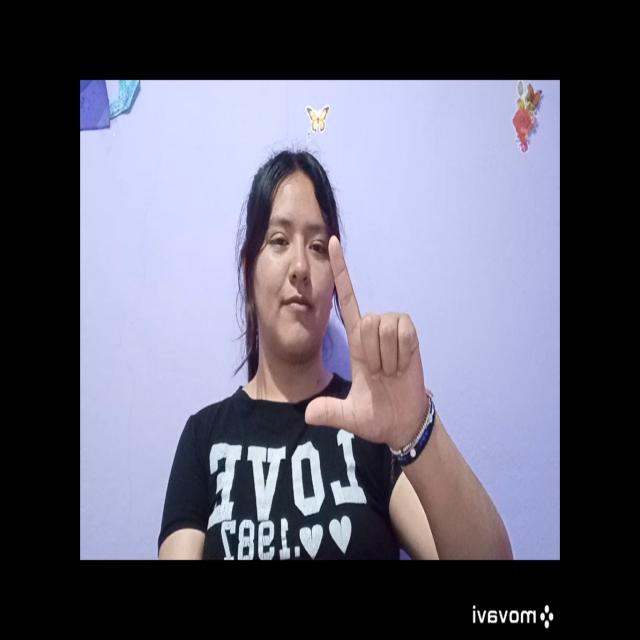L: (293, 210, 431, 463)
